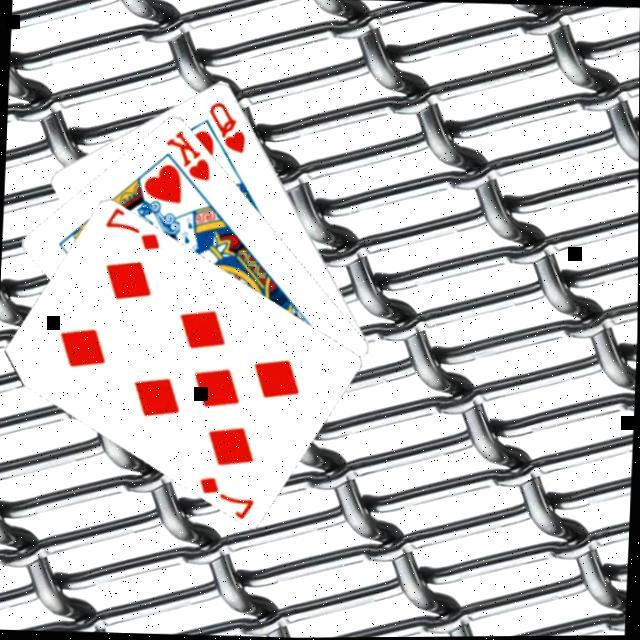7D: (99, 206, 162, 254), (193, 474, 255, 520)
KH: (159, 127, 213, 185)
QH: (202, 98, 248, 156)
